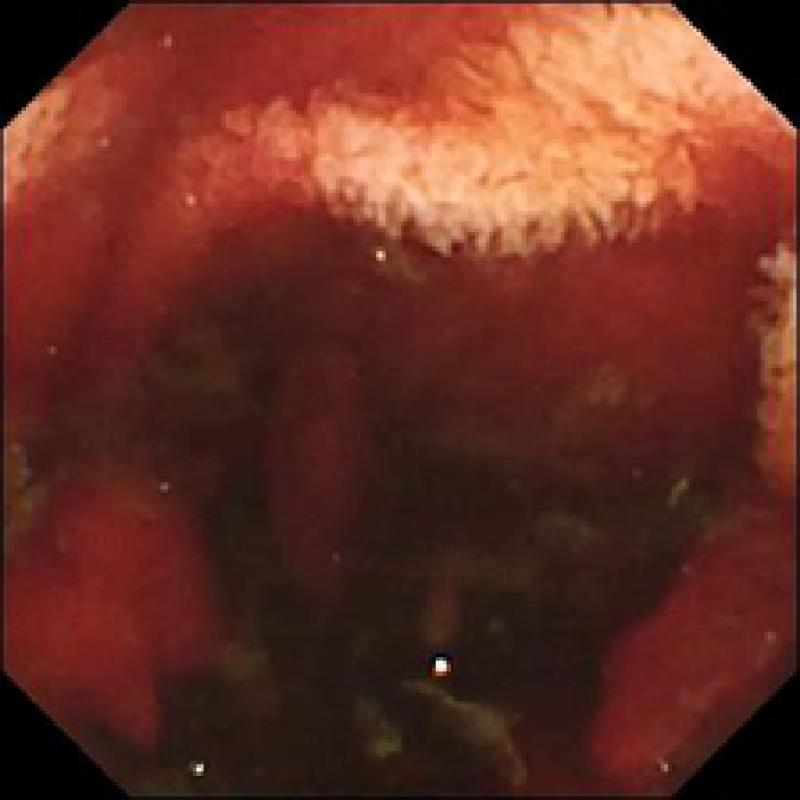bleeding: (0, 11, 782, 439), (0, 453, 226, 743), (599, 487, 800, 783), (286, 445, 356, 570)
